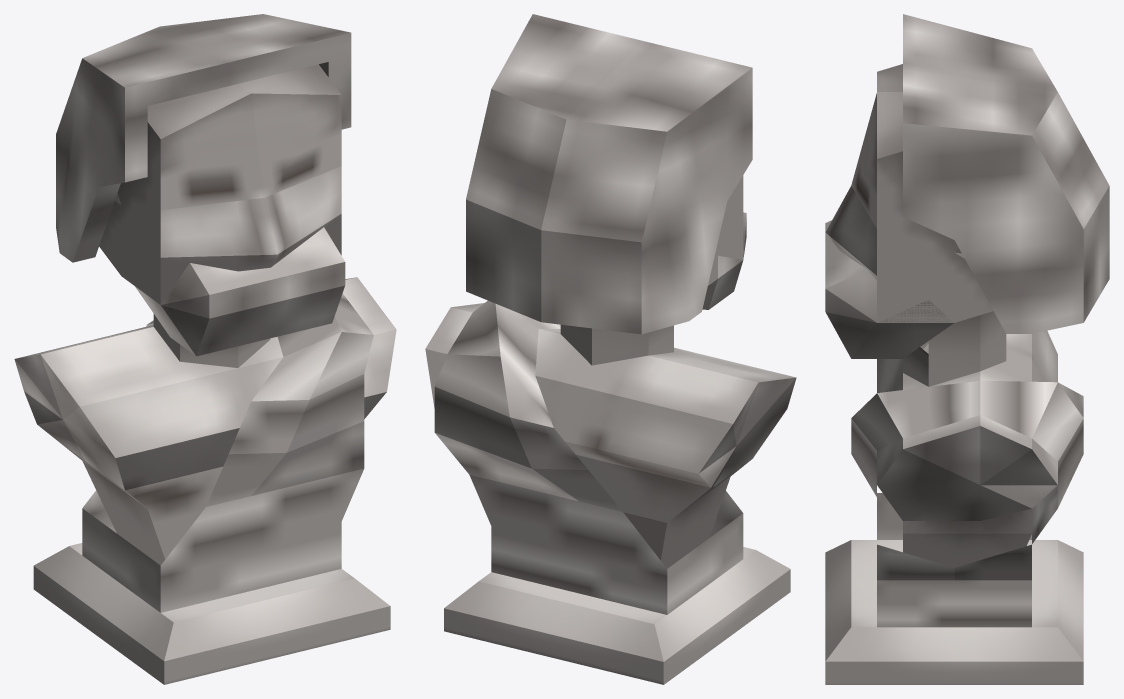
The model's file is bust.fbx.
The picture shows the model from 3 angles, left to right: view 1: azimuth 30°, elevation 25°; view 2: azimuth 150°, elevation 25°; view 3: azimuth 270°, elevation 25°; orthographic projection. The views are drawn at different scales.
Visible parts, largest first — view 1: Male; view 2: Male; view 3: Male.
Part boxes in pixels (x1=…): Male: x1=14, y1=14, x2=396, y2=684; Male: x1=425, y1=14, x2=796, y2=684; Male: x1=825, y1=14, x2=1109, y2=684.
Size of the model in its own units: 87.5 by 150 by 68.75.
Materials: 1 (1 with a texture image).
